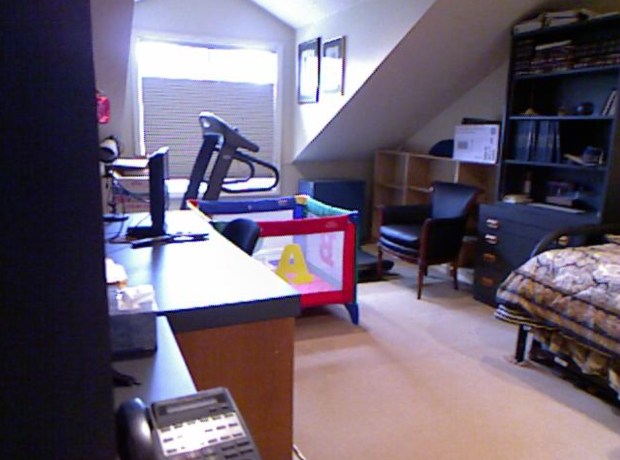chair: (375, 181, 484, 281), (223, 218, 259, 251)
door: (99, 210, 200, 388)
window: (135, 43, 276, 108)
